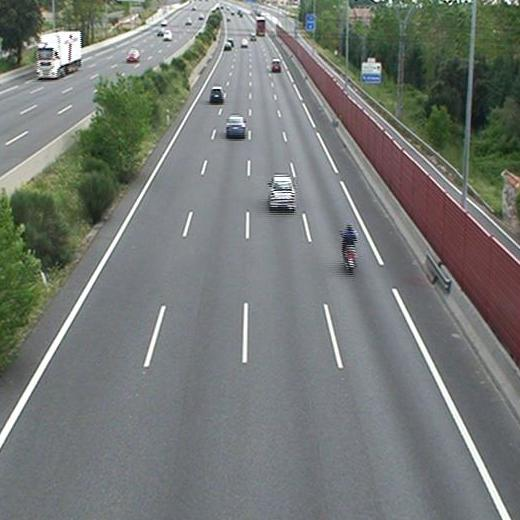car: (268, 176, 296, 207), (226, 116, 245, 135), (209, 87, 223, 101), (271, 59, 281, 70), (223, 42, 234, 51)
motorcycle: (340, 224, 360, 274)
truck: (256, 16, 266, 36)
